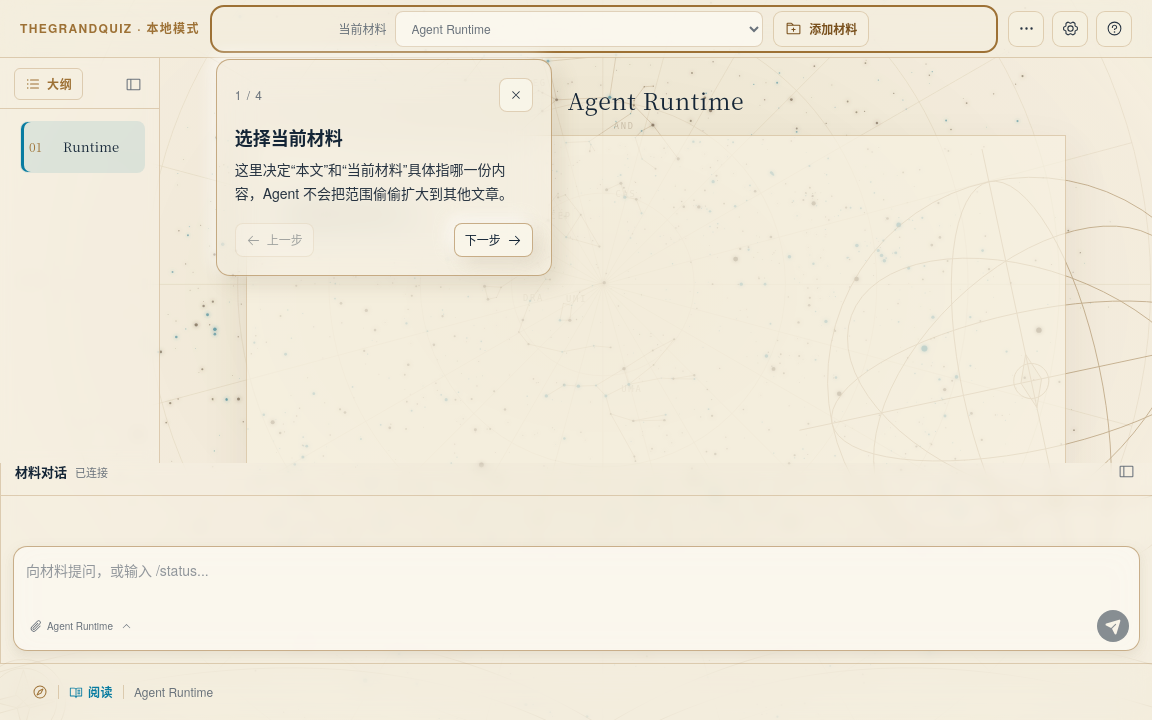
it: Sidebar context switching › shows a versioned first-run tour that can be dismissed and reopened
The width and height of the screenshot is (1152, 720).
(page scrolled)
Check: the heading "Agent Runtime" is shown, box [568, 83, 744, 117]
Check: the dialog named "正考级新手指南" shows "1 / 4", box [216, 58, 552, 276]
Click the button "下一步": (493, 240) [454, 223, 533, 257]
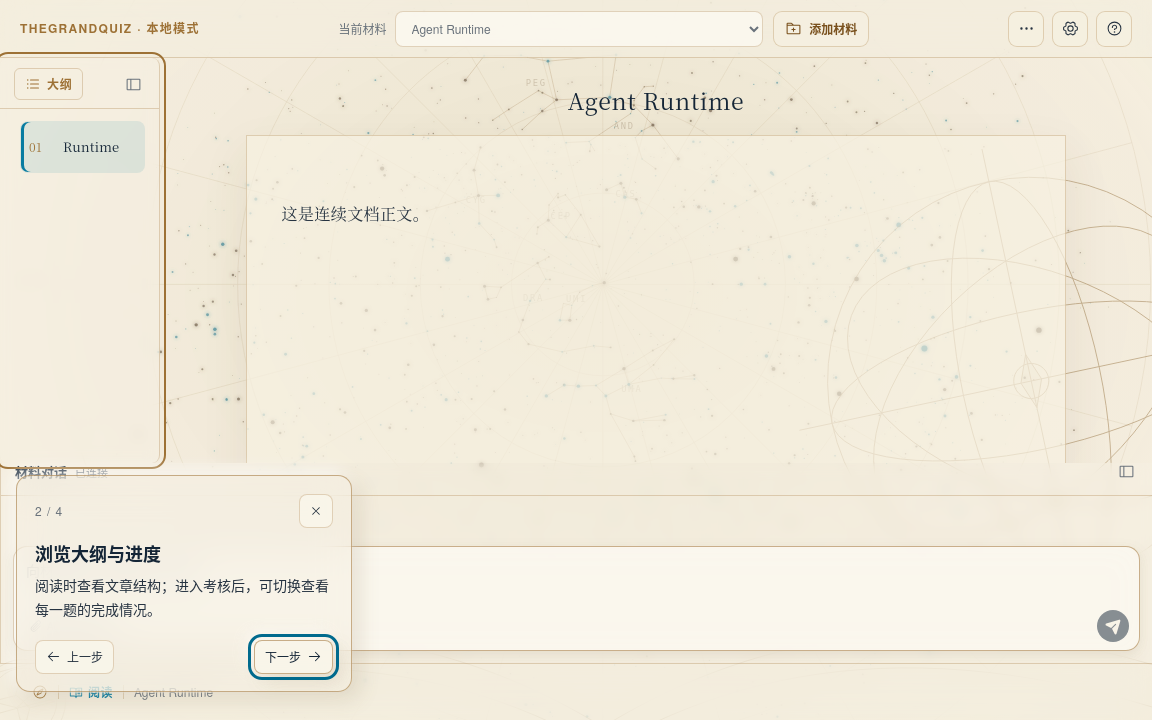
Check: the dialog named "正考级新手指南" shows "2 / 4", box [16, 475, 352, 693]
Check: the dialog named "正考级新手指南" shows "浏览大纲与进度", box [35, 541, 161, 567]
Click the button named "跳过指南": (316, 511) [299, 494, 333, 528]
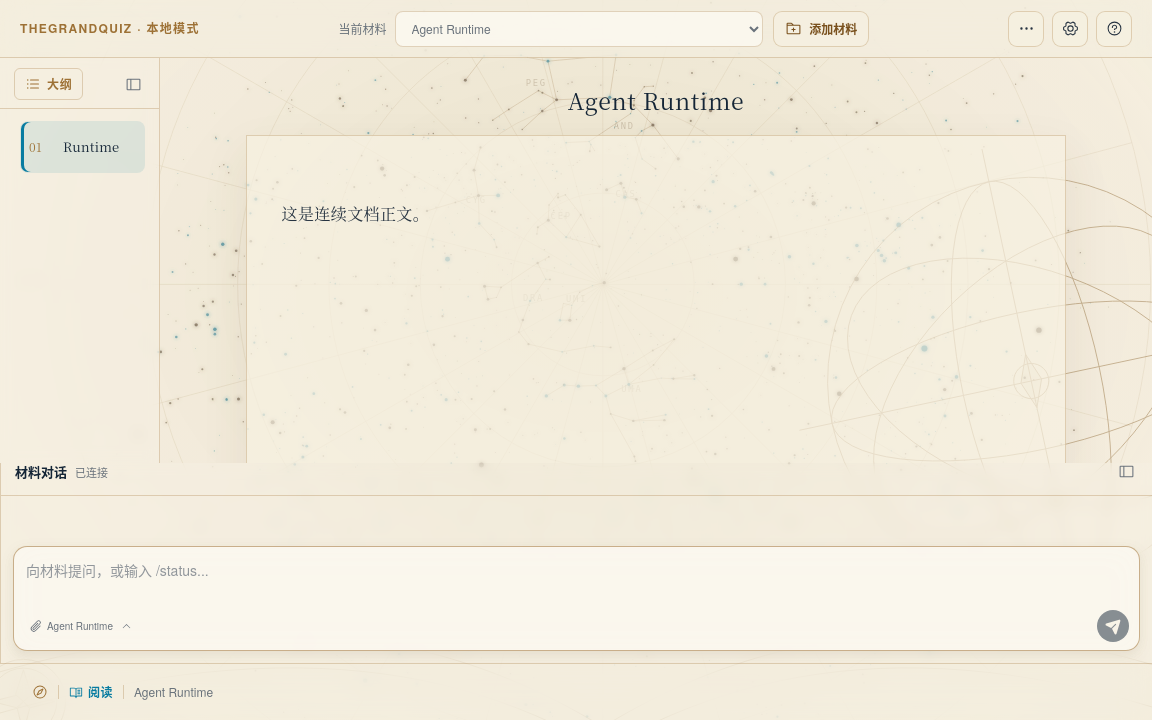
Check: the dialog "正考级新手指南" is gone
Click the button named "打开新手指南": (1114, 28) [1096, 10, 1132, 46]
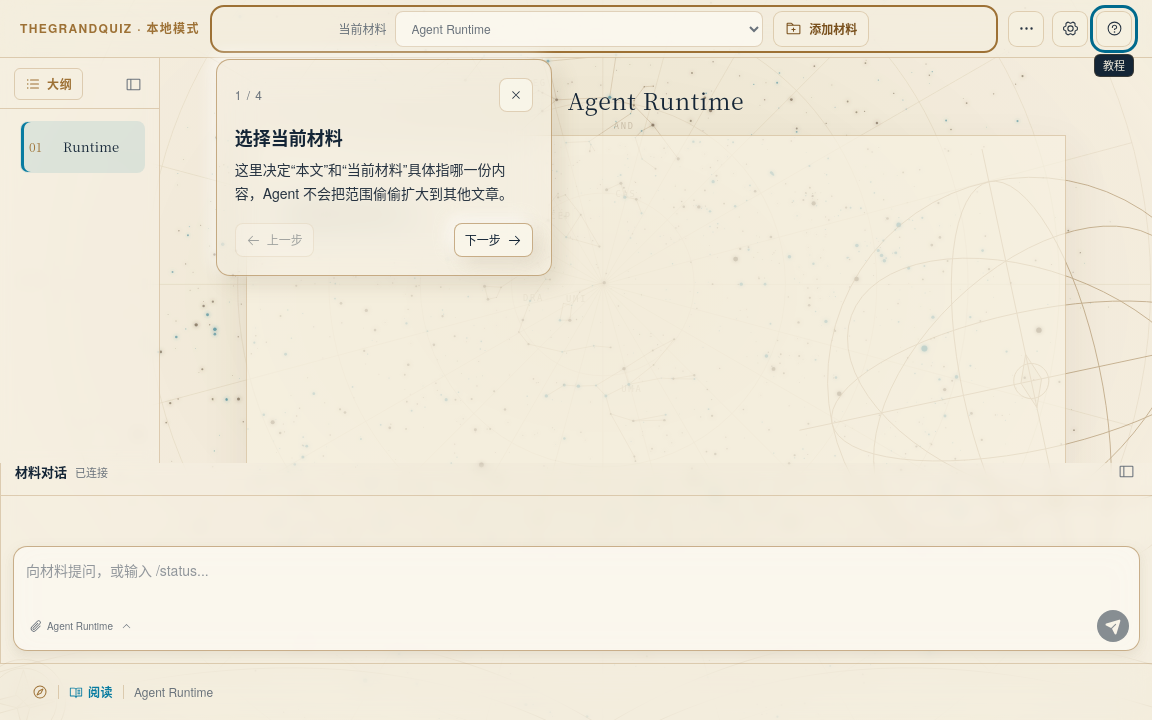
Check: the dialog named "正考级新手指南" is shown, box [216, 58, 552, 276]
